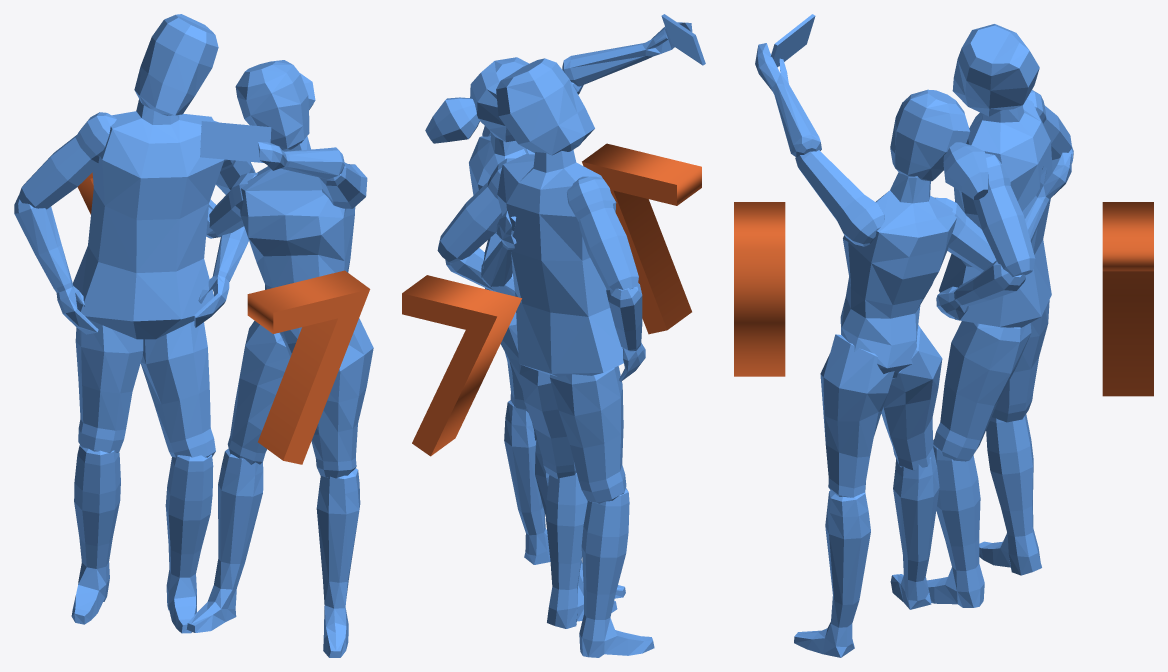
The model's file is number7.glb.
3 renders of one model, left to right at view 1: azimuth 30°, elevation 25°; view 2: azimuth 150°, elevation 25°; view 3: azimuth 270°, elevation 25°, orthographic. The views are drawn at different scales.
Parts seen in each view (by area): view 1: group1670162148, Text.001; view 2: group1670162148, Text.001, Text.002; view 3: group1670162148, Text.002, Text.001.
Boxes of the visible parts, bbox=[...] form: group1670162148: bbox=[14, 14, 373, 657]; Text.001: bbox=[247, 270, 370, 464]; group1670162148: bbox=[425, 14, 705, 657]; Text.001: bbox=[582, 143, 701, 334]; Text.002: bbox=[402, 275, 521, 456]; group1670162148: bbox=[755, 14, 1073, 657]; Text.002: bbox=[1102, 202, 1153, 396]; Text.001: bbox=[734, 202, 785, 376].
Size of the model in its own units: 2.19 by 4.75 by 3.08.
